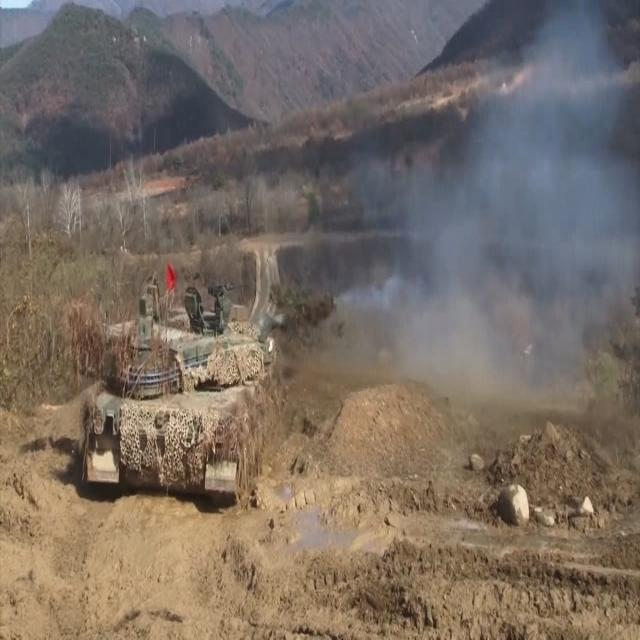korea tank: (70, 280, 334, 508)
